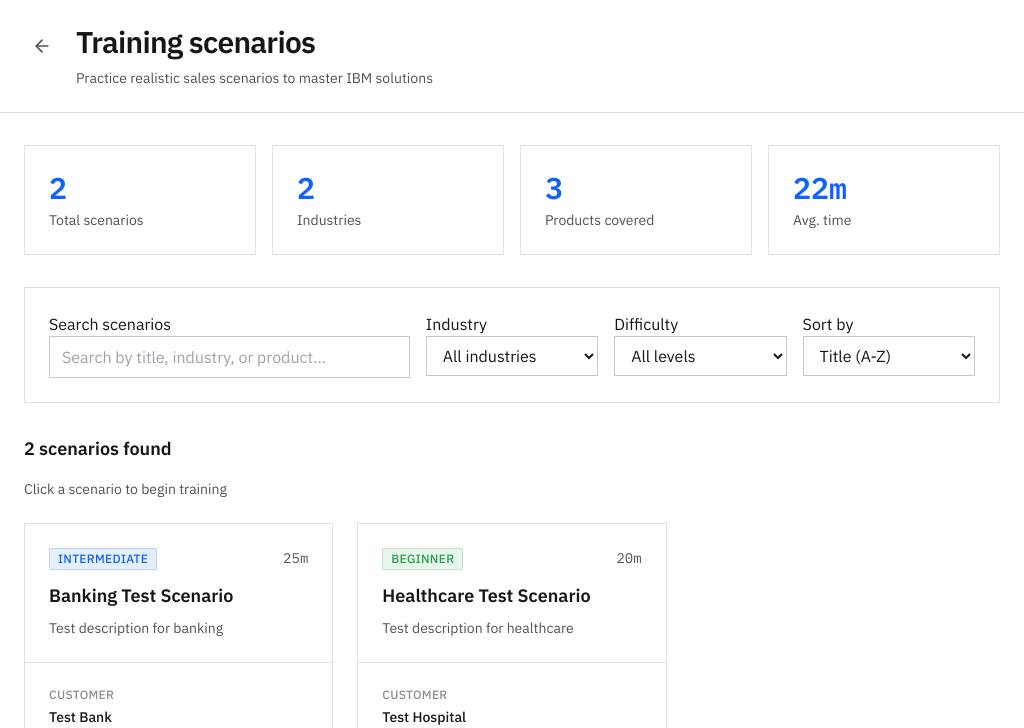
Test: ScenarioLibraryPage › Search Functionality › should filter scenarios based on search query
In the field with placeholder "Search by title, industry, or product...": (229,357) [49,336,410,378], type "healthcare"
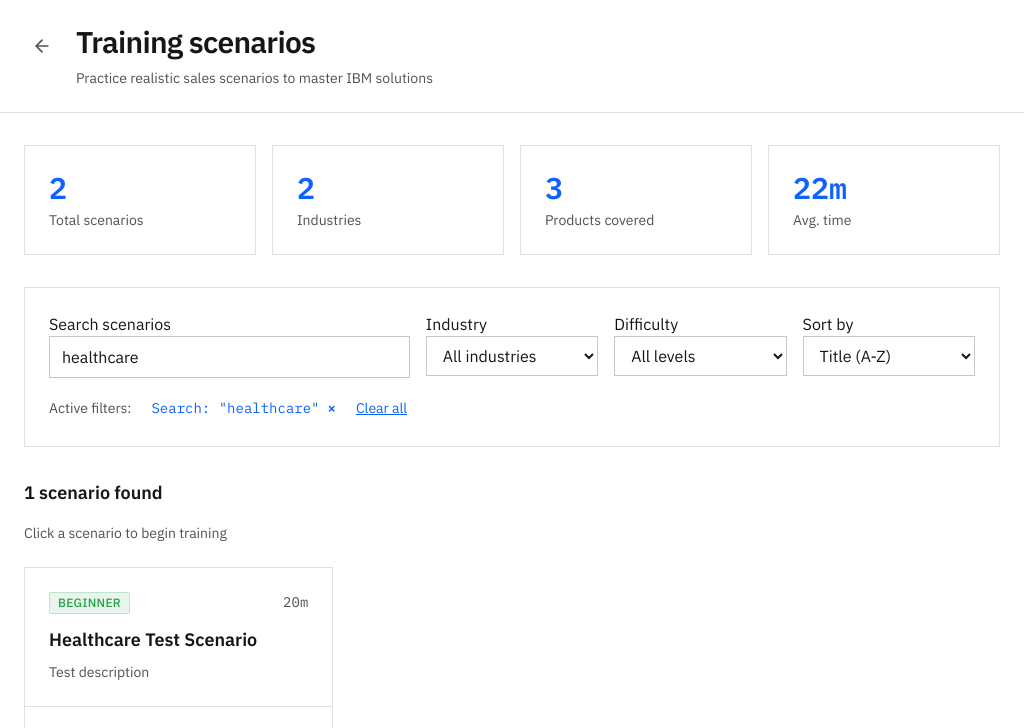
Expected: the heading "Healthcare Test Scenario" is shown, [49,628,257,651]
Now the heading "Banking Test Scenario" is gone
